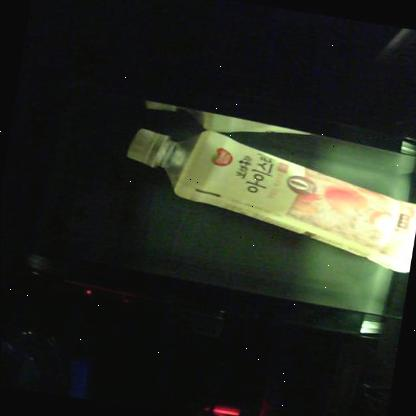Plastic Bottle: (127, 130, 407, 272)
